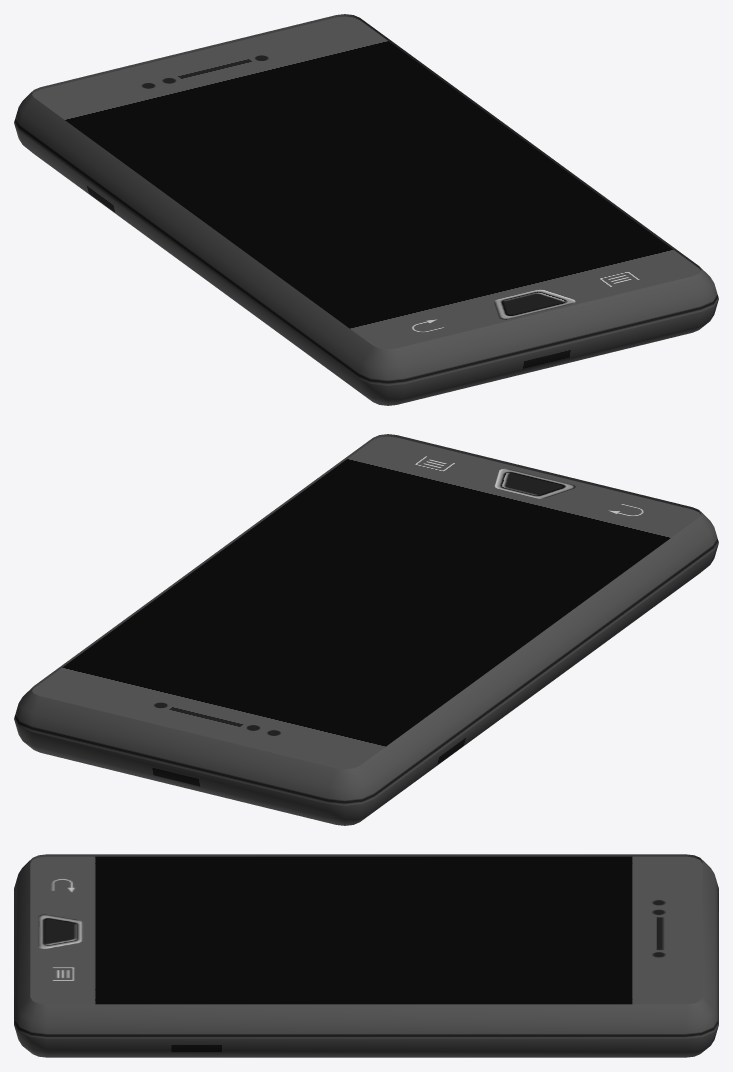
Rendered from Smartphone.FBX.
3 renders of one model, top to bottom at view 1: azimuth 30°, elevation 25°; view 2: azimuth 150°, elevation 25°; view 3: azimuth 270°, elevation 25°, orthographic. The views are drawn at different scales.
Parts seen in each view (by area): view 1: Smartphone; view 2: Smartphone; view 3: Smartphone.
Part boxes in pixels (box(x1,y1,x2,y2)): Smartphone: box(14, 14, 718, 405); Smartphone: box(14, 434, 718, 825); Smartphone: box(14, 854, 718, 1057).
Size of the model in its own units: 43.31 by 78.74 by 7.06.
Materials: 1 (1 with a texture image).
